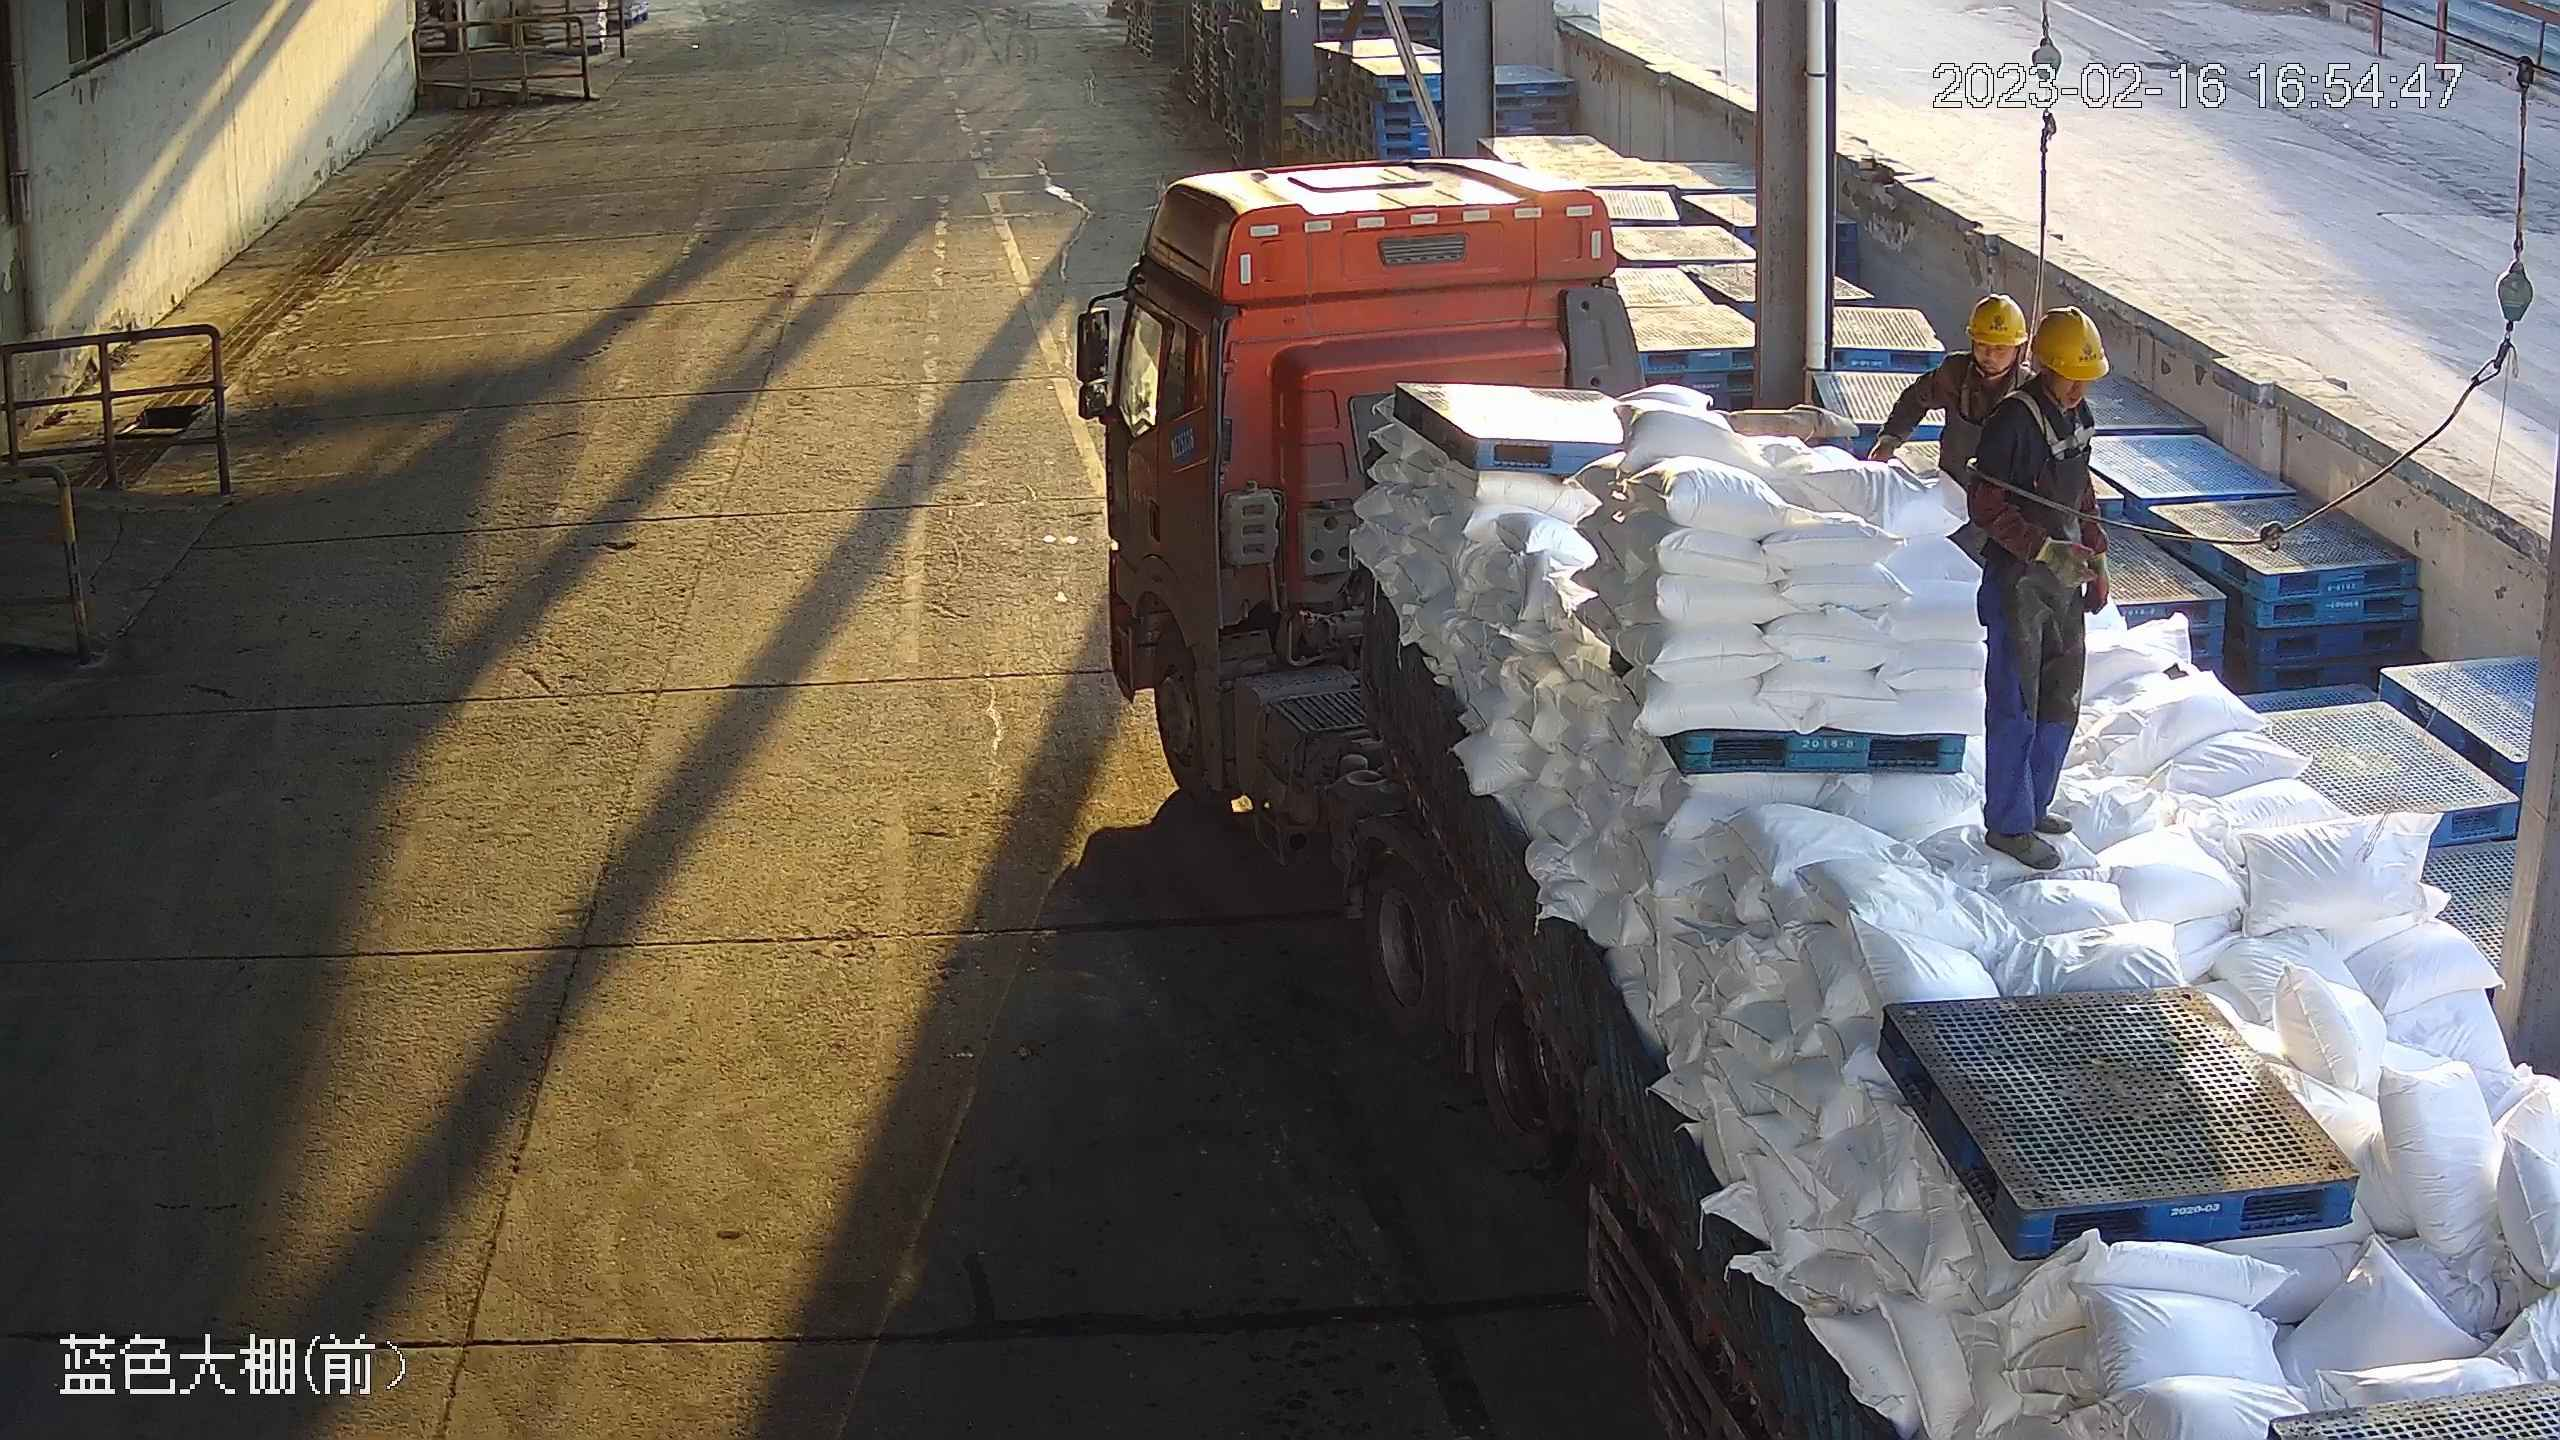belt: (2008, 394, 2100, 459), (1956, 360, 2023, 423)
head: (2000, 308, 2110, 469), (1901, 291, 2035, 411)
helmet: (2029, 306, 2108, 381), (1966, 296, 2032, 347)
people: (1967, 303, 2115, 876)
truck: (1071, 158, 2560, 1434)
